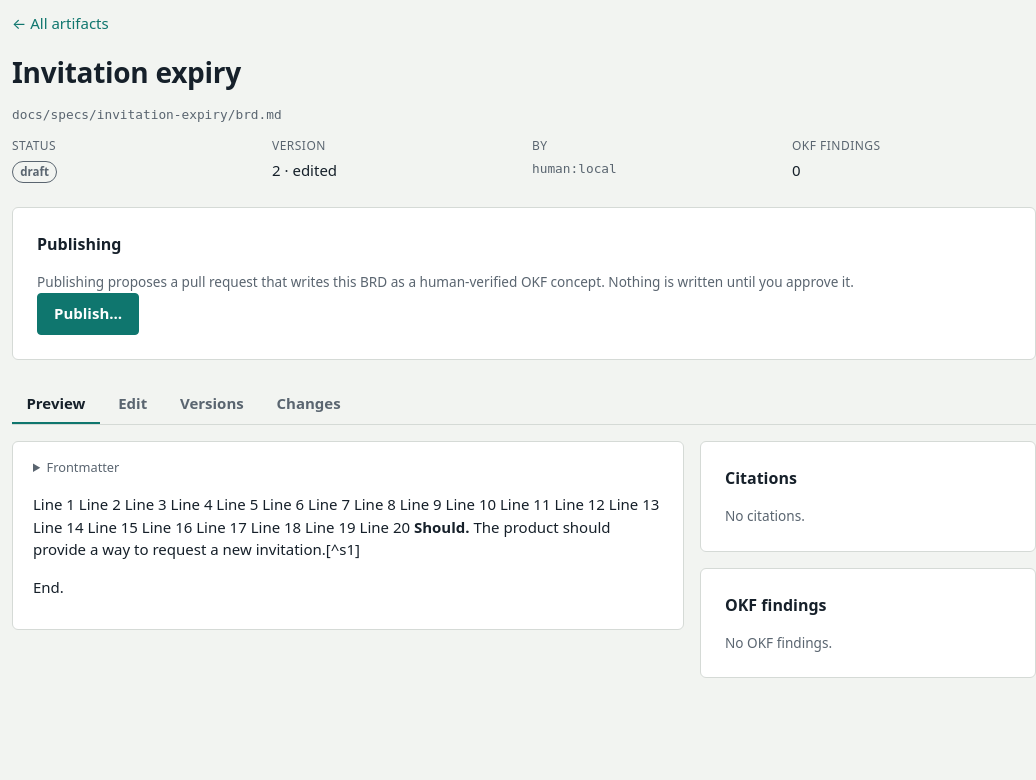
Test: Changes tab › compares the generated version with the current one
The width and height of the screenshot is (1036, 780).
Click the tab "Changes".
click(309, 404)  # box [262, 384, 355, 424]
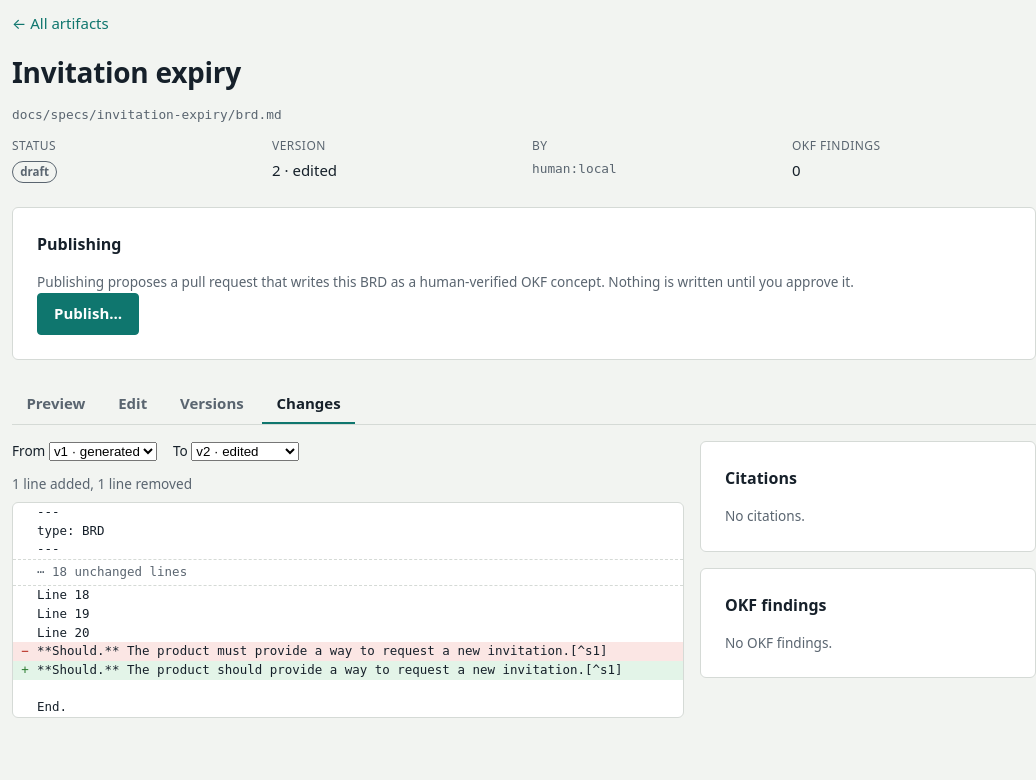
Now the text "1 line added, 1 line removed" is shown, box [12, 474, 192, 492]
Now the table named "Changes from v1 to v2" is shown, box [12, 502, 684, 718]
Now the text "The product must provide" is shown, box [37, 643, 608, 658]
